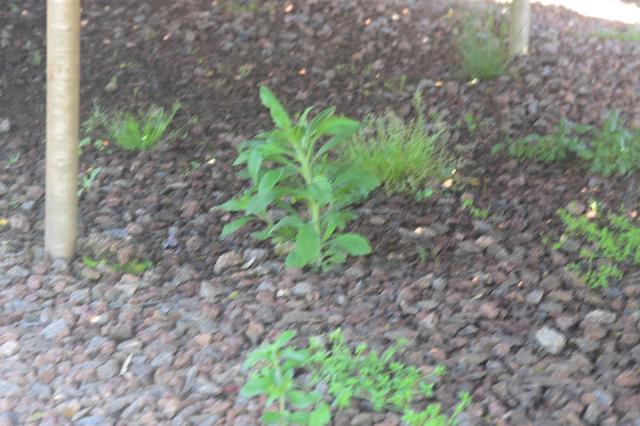MalezaMontesDelPlata: (217, 76, 384, 265), (304, 323, 472, 426), (340, 82, 454, 191), (545, 191, 640, 297), (235, 327, 328, 426), (492, 112, 640, 173), (86, 90, 190, 158)
